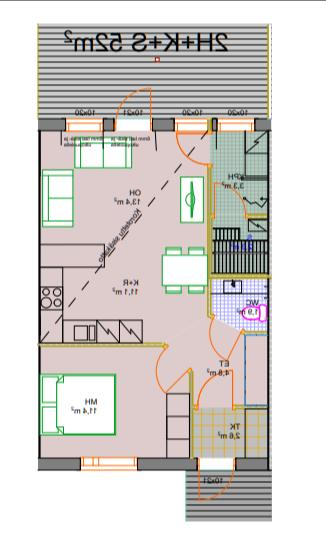bathroom: (212, 277, 271, 332)
door: (152, 344, 196, 393), (206, 315, 247, 363), (112, 84, 154, 130), (196, 368, 238, 412), (195, 456, 236, 500), (173, 129, 217, 166), (211, 179, 248, 223)
perimeter: (37, 118, 271, 469)
window: (75, 455, 144, 473), (165, 114, 216, 130), (58, 115, 110, 130), (215, 114, 261, 130)
